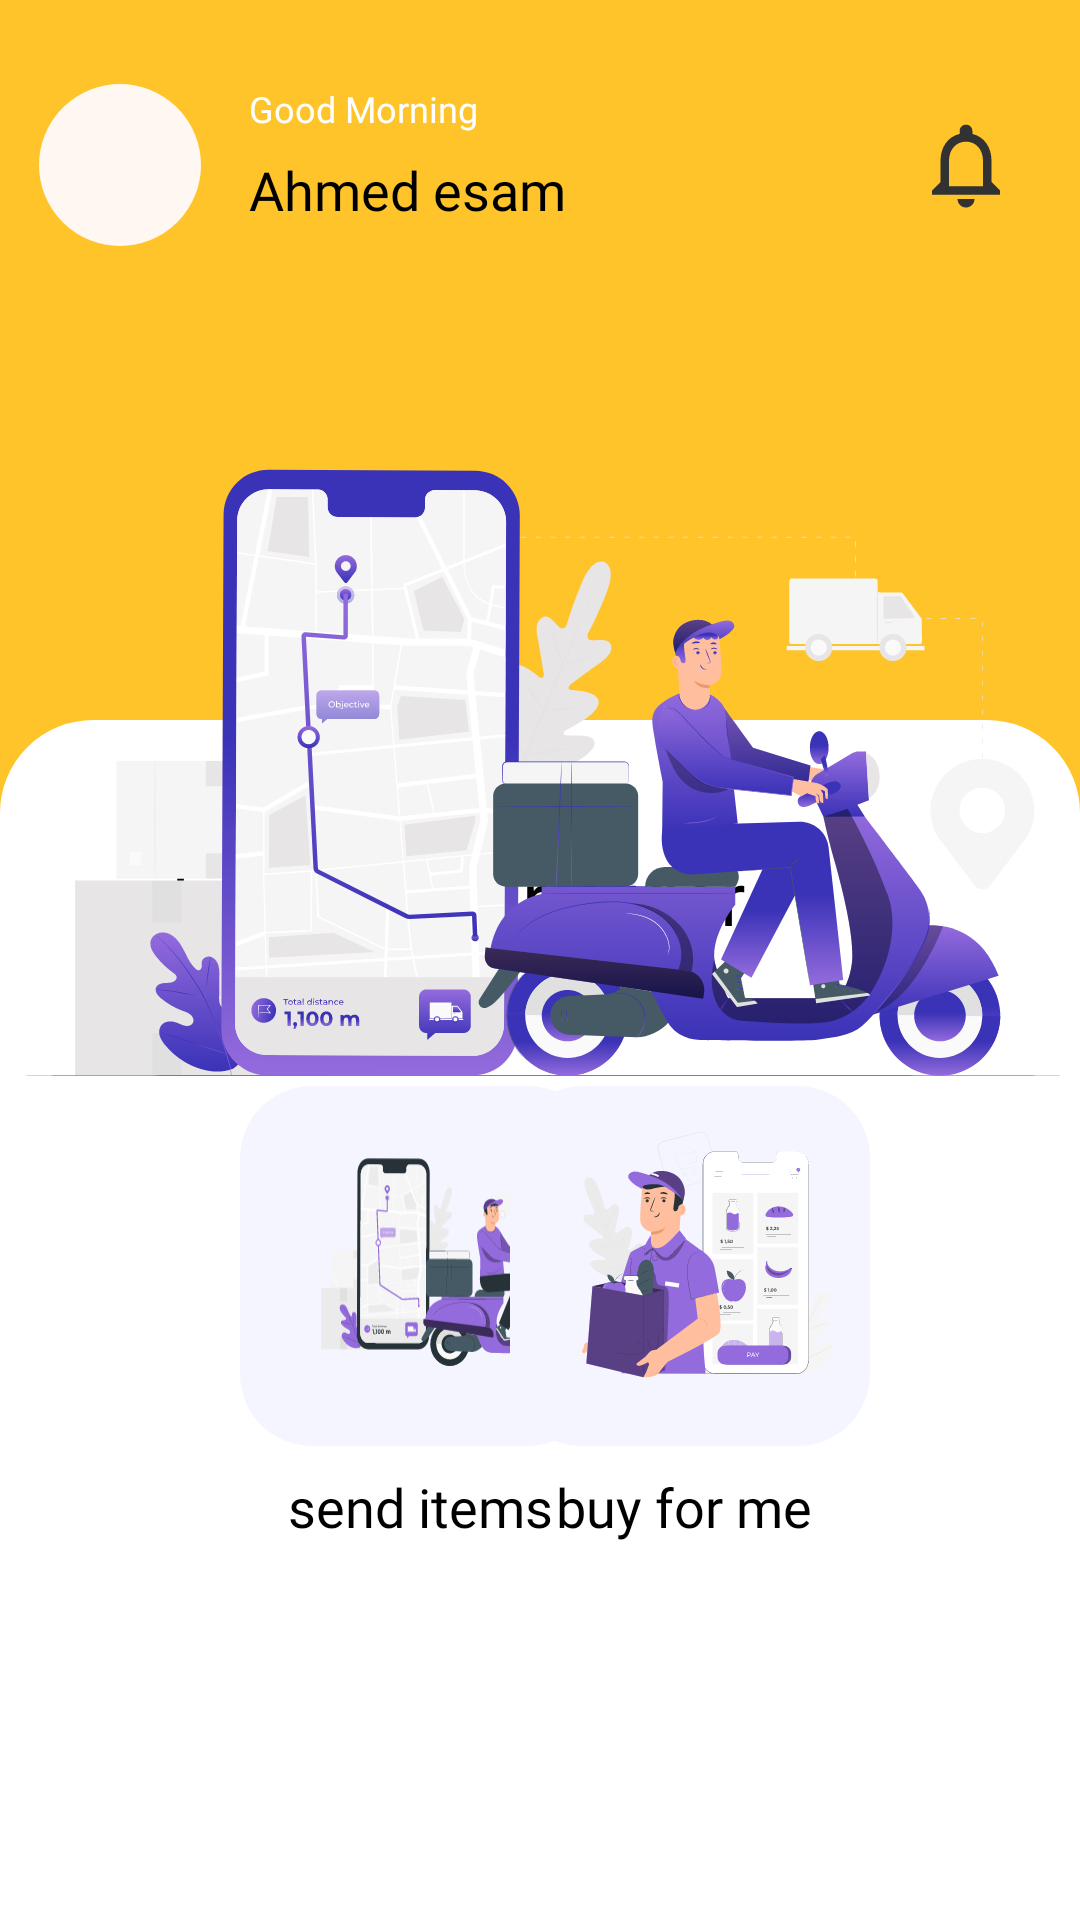

Named icons in this screenshot (1080px×1920px) and their centers, [x,y]:
notifications: [966,166]
